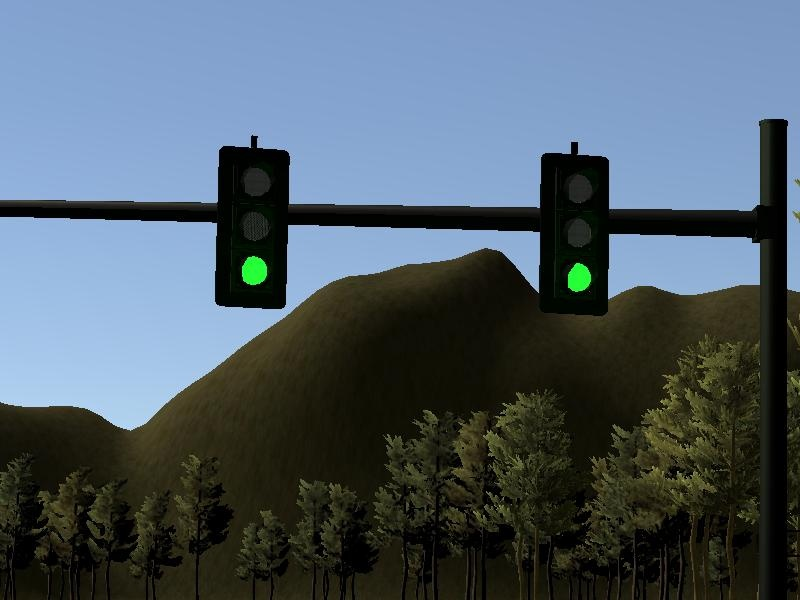GREEN: (216, 146, 289, 309), (538, 152, 609, 316)
